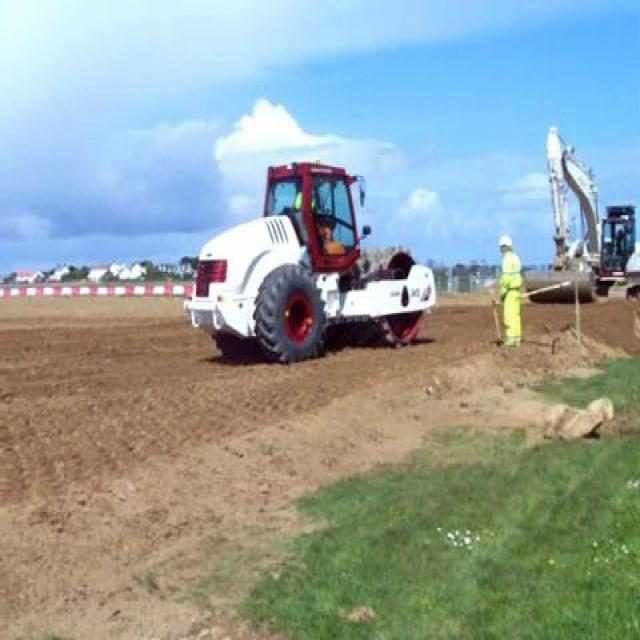Excavator: (545, 130, 639, 300)
Roller: (189, 163, 431, 345)
